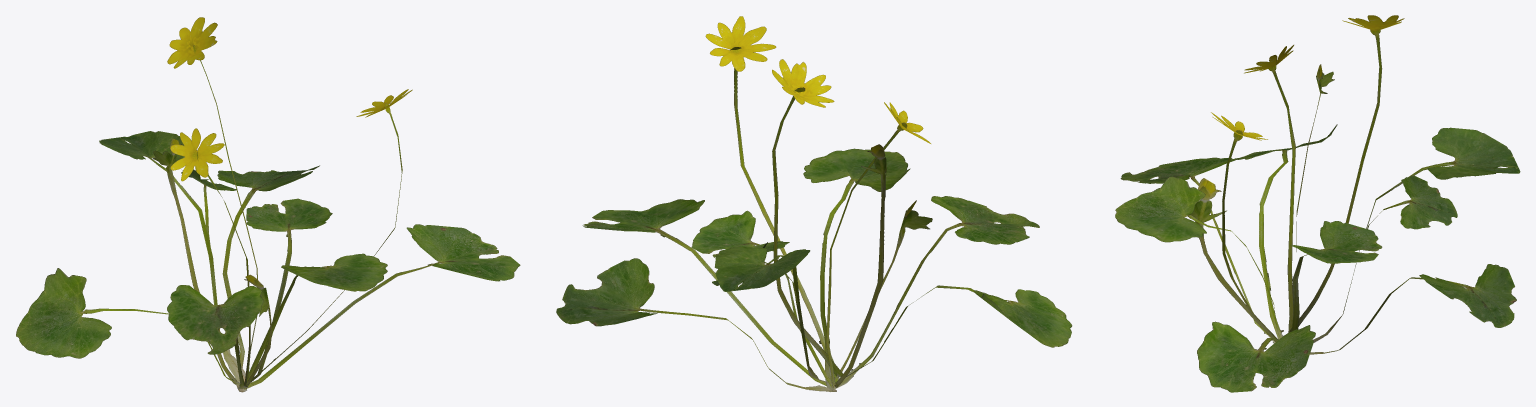
File: celandine_01_c.gltf
The picture shows the model from 3 angles, left to right: view 1: azimuth 30°, elevation 25°; view 2: azimuth 150°, elevation 25°; view 3: azimuth 270°, elevation 25°; orthographic projection. The views are drawn at different scales.
Visible parts, largest first — view 1: celandine_01_c__x; view 2: celandine_01_c__x; view 3: celandine_01_c__x.
Boxes of the visible parts, box(x1,y1,x2,y2) form: celandine_01_c__x: box(16, 17, 520, 392); celandine_01_c__x: box(556, 16, 1072, 391); celandine_01_c__x: box(1115, 15, 1520, 392).
Size of the model in its own units: 0.254 by 0.1757 by 0.1893.
1 material, 1 textured.
